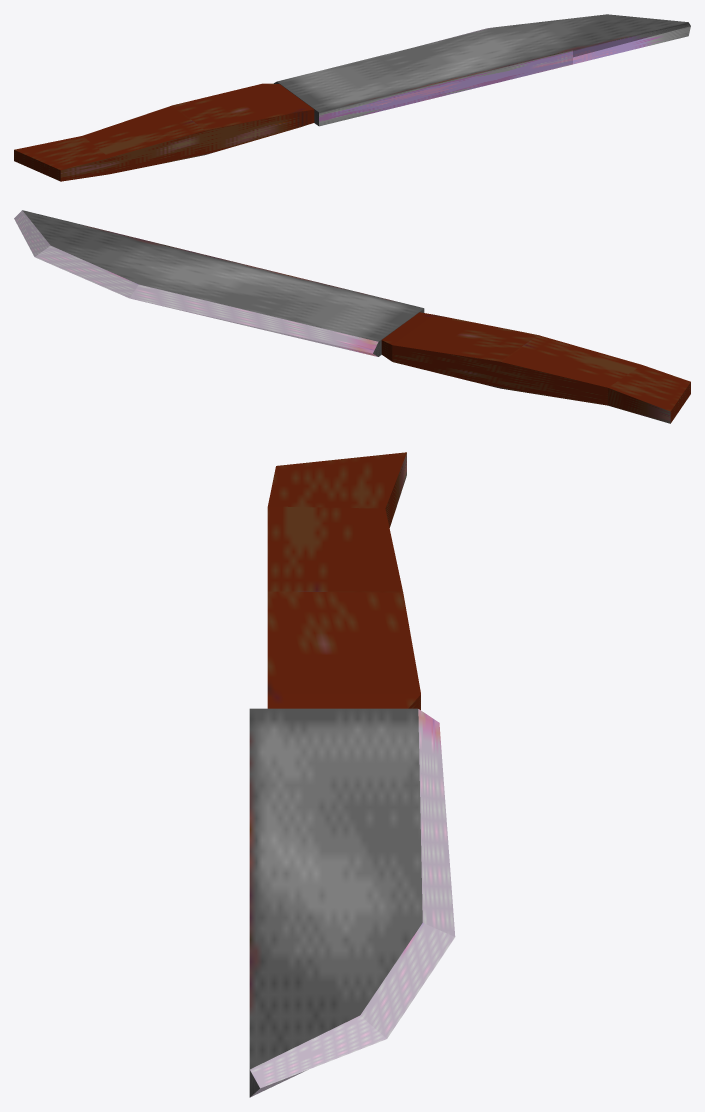
The model's file is knife.fbx.
The picture shows the model from 3 angles, top to bottom: view 1: azimuth 30°, elevation 25°; view 2: azimuth 150°, elevation 25°; view 3: azimuth 270°, elevation 25°; orthographic projection. The views are drawn at different scales.
Parts seen in each view (by area): view 1: Cube; view 2: Cube; view 3: Cube.
Part boxes in pixels (<box>): Cube: <box>14,14,690,181</box>; Cube: <box>14,210,690,423</box>; Cube: <box>249,452,455,1097</box>.
Bounding box in the file's own units: 401 × 14.79 × 55.8.
